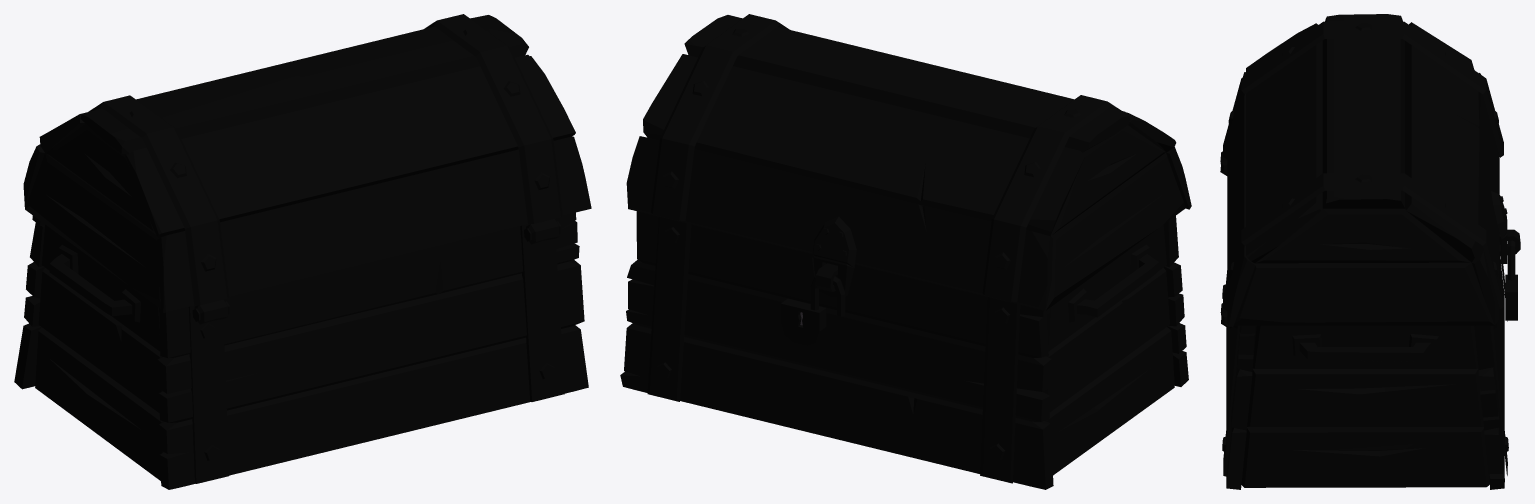
File: chest.fbx
3 renders of one model, left to right at view 1: azimuth 30°, elevation 25°; view 2: azimuth 150°, elevation 25°; view 3: azimuth 270°, elevation 25°, orthographic. The views are drawn at different scales.
Parts seen in each view (by area): view 1: Chest_Cap, Chest; view 2: Chest_Cap, Chest, Chest_Lock, Chest_Lock.001; view 3: Chest_Cap, Chest, Chest_Lock, Chest_Lock.001.
Boxes of the visible parts, <box> form: Chest_Cap: <box>23,14,591,313</box>; Chest: <box>14,212,588,489</box>; Chest_Cap: <box>626,14,1191,310</box>; Chest: <box>620,211,1188,489</box>; Chest_Lock: <box>780,298,826,345</box>; Chest_Lock.001: <box>810,274,845,316</box>; Chest_Cap: <box>1223,14,1507,327</box>; Chest: <box>1220,151,1520,489</box>; Chest_Lock: <box>1505,274,1517,320</box>; Chest_Lock.001: <box>1507,240,1515,280</box>.
Size of the model in its own units: 69.96 by 47.06 by 43.67.
